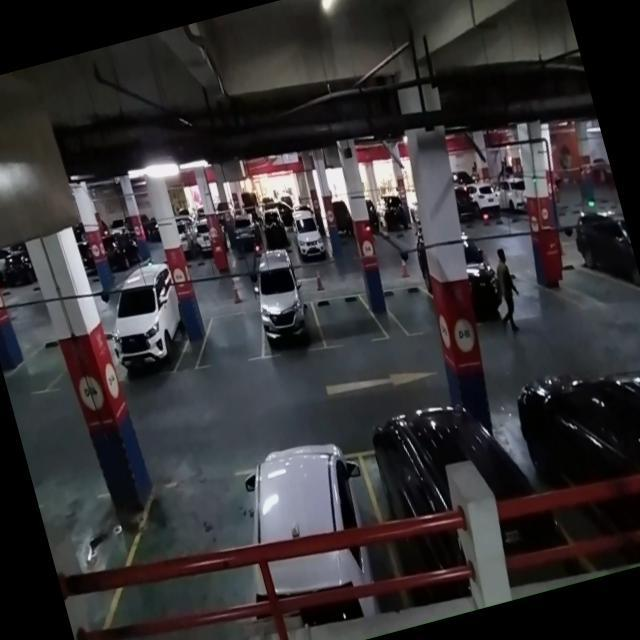empty: (99, 461, 279, 640), (185, 303, 272, 375), (310, 282, 390, 356), (382, 276, 443, 343)
occupied: (354, 393, 573, 614), (230, 436, 405, 640), (98, 269, 196, 386), (242, 255, 326, 363)
